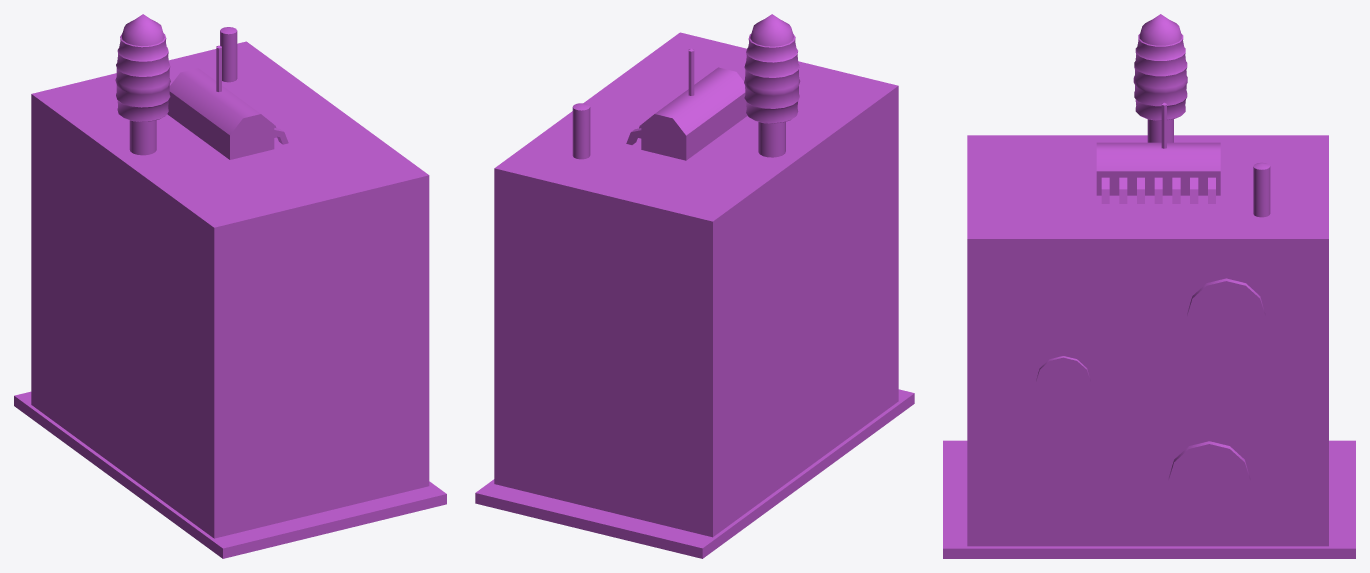
File: SM_Receiver.fbx
3 renders of one model, left to right at view 1: azimuth 30°, elevation 25°; view 2: azimuth 150°, elevation 25°; view 3: azimuth 270°, elevation 25°, orthographic. The views are drawn at different scales.
Visible parts, largest first — view 1: invention_009; view 2: invention_009; view 3: invention_009.
Boxes of the visible parts, box(x1,y1,x2,y2) form: invention_009: box(14, 14, 446, 558); invention_009: box(475, 14, 914, 558); invention_009: box(943, 14, 1355, 558).
Bounding box in the file's own units: 34.09 × 66.29 × 54.91.
